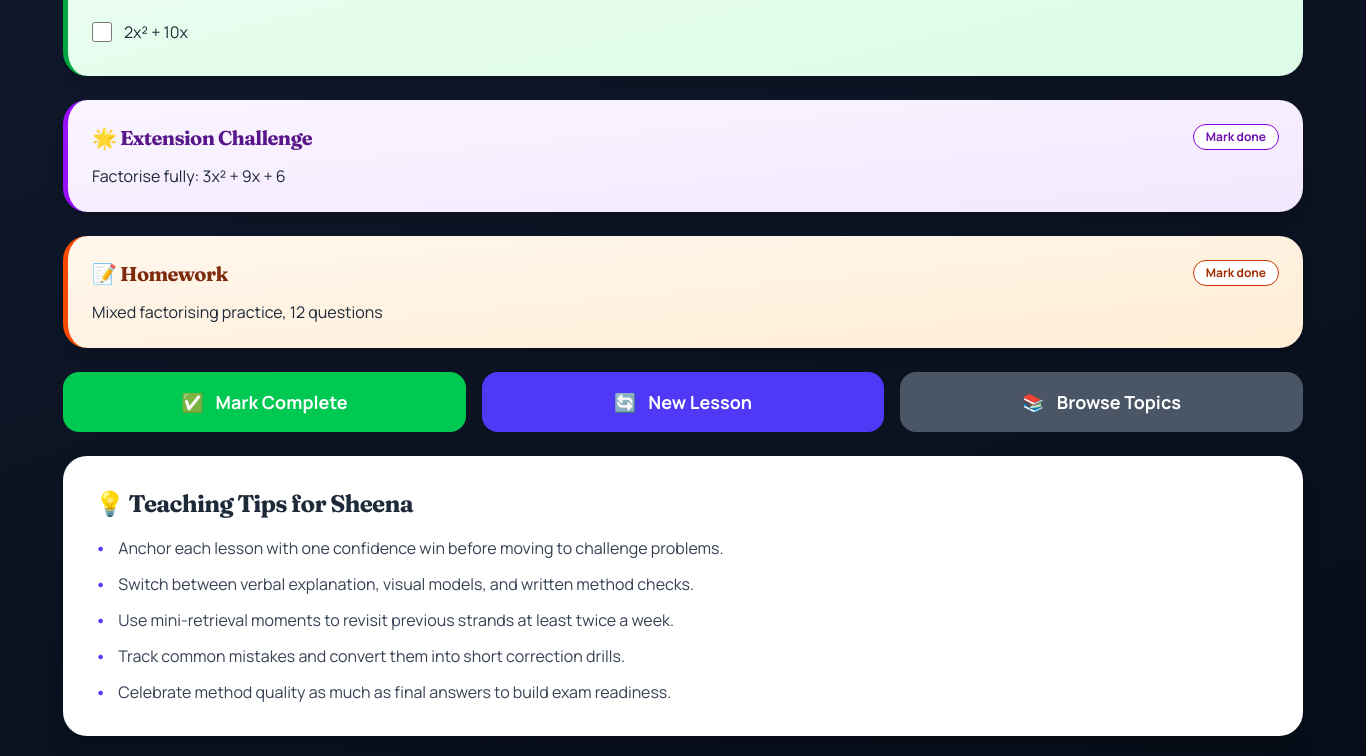
Test: MathsInteractive › increments completed count when Mark Complete is clicked
This screenshot has width=1366, height=756.
(page scrolled)
Click the text "Mark Complete". click: (282, 402)
box: [216,388,348,416]
(page scrolled)
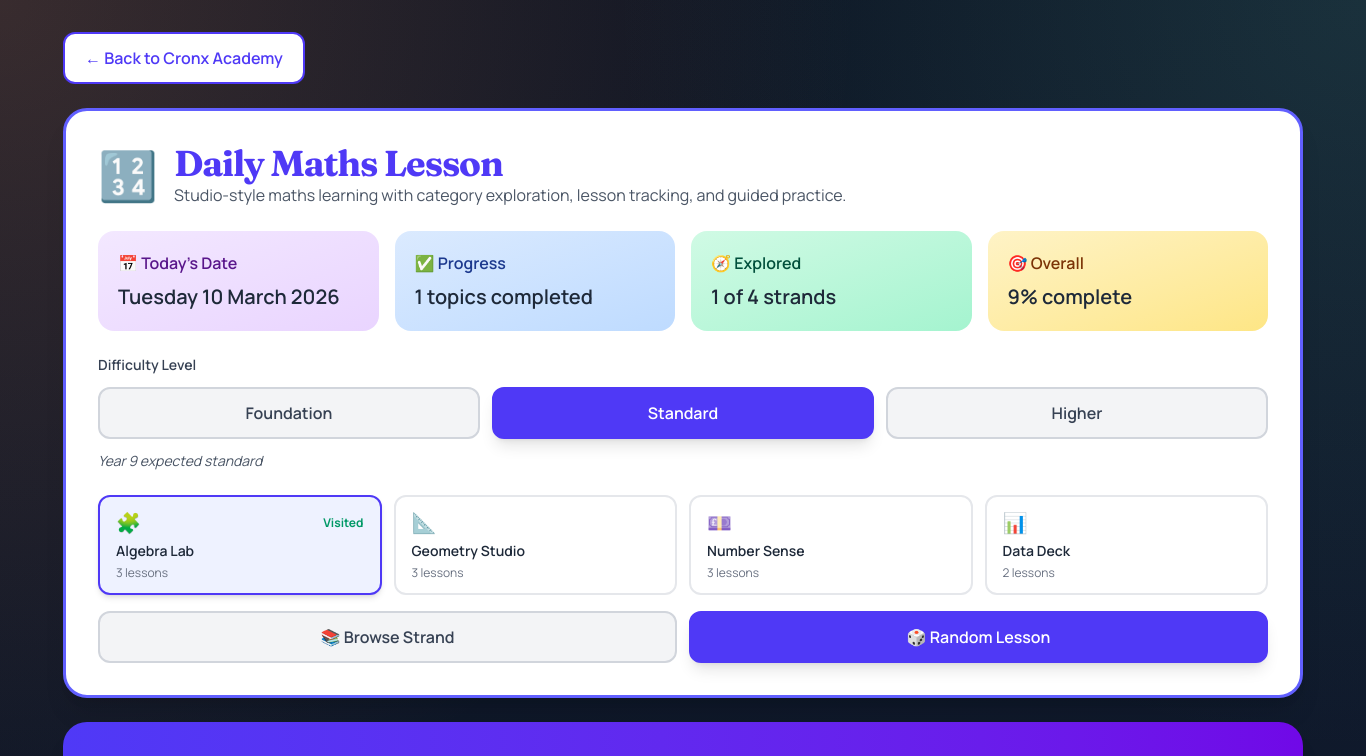
Expected: the text "1 topics completed" is shown, [414,283,593,310]
